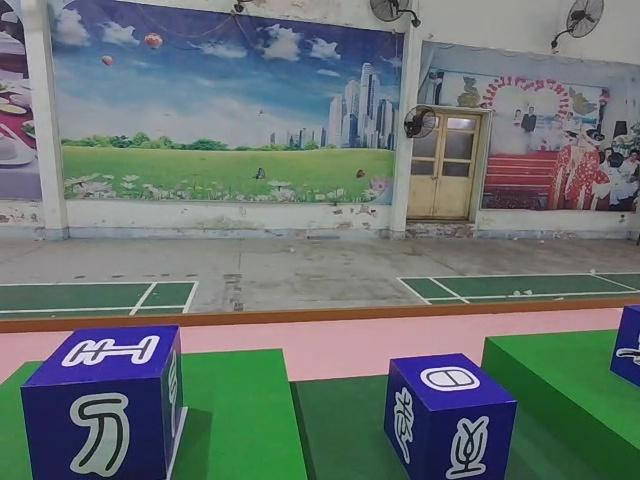R2 Fake Blue: (24, 326, 188, 480), (386, 353, 519, 480)
